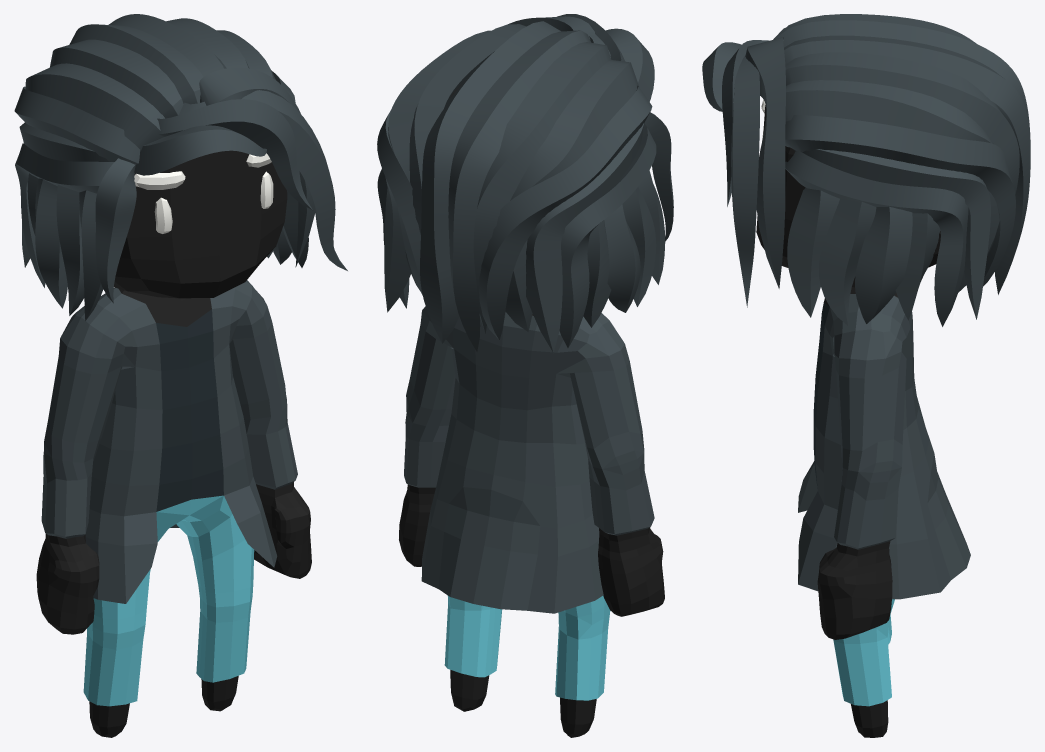
Rendered from clinical-instructor.glb.
3 renders of one model, left to right at view 1: azimuth 30°, elevation 25°; view 2: azimuth 150°, elevation 25°; view 3: azimuth 270°, elevation 25°, orthographic. The views are drawn at different scales.
Parts seen in each view (by area): view 1: Body.001; view 2: Body.001; view 3: Body.001.
Part boxes in pixels (bbox=[...]): Body.001: bbox=[14, 14, 347, 737]; Body.001: bbox=[377, 14, 673, 737]; Body.001: bbox=[702, 14, 1030, 737].
Size of the model in its own units: 1.28 by 3.2 by 1.4.
